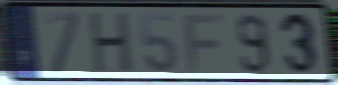3: (278, 10, 322, 78)
5: (138, 12, 178, 74)
7: (42, 11, 80, 75)
9: (235, 11, 271, 75)
F: (182, 12, 226, 75)
H: (88, 11, 134, 76)
